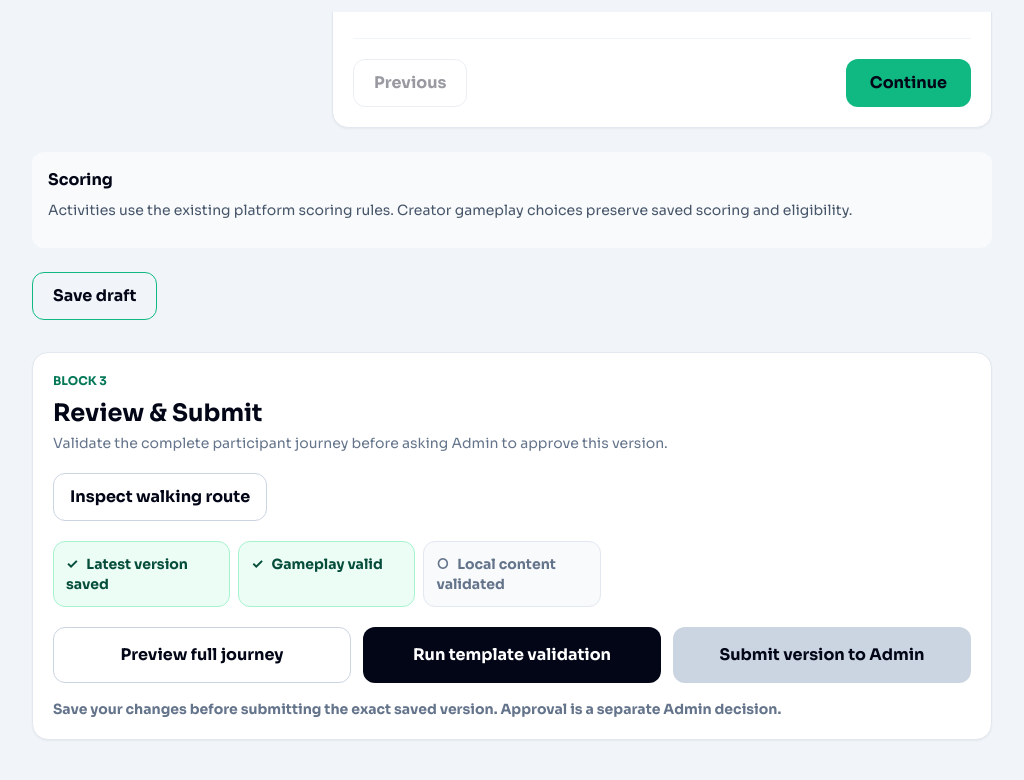
12 complete saved Local requires explicit validation, then exact submission without repeating completed sections
(page scrolled)
Expected: the button "Submit version to Admin" is disabled, [673,626,971,682]
Click the button "Run template validation" at (512, 654), box [363,626,661,682]
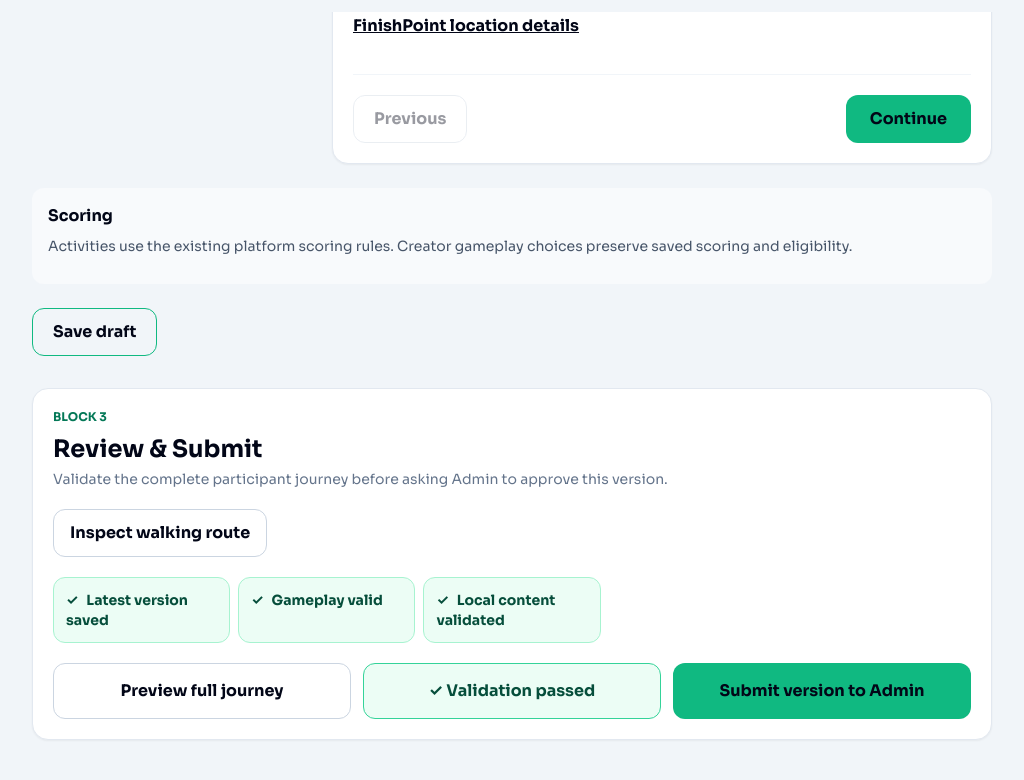
Expected: the button "Submit version to Admin" is enabled
Click the button "Submit version to Admin" at (822, 690), box [673,662,971,718]
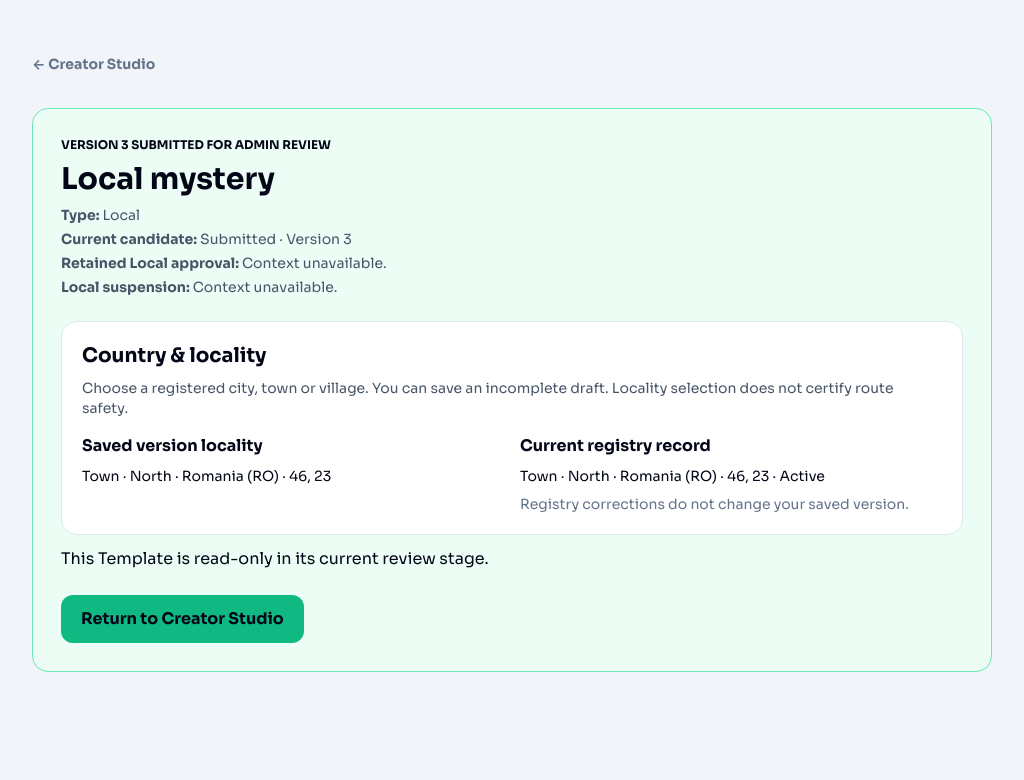
Expected: the text "submitted for Admin review" is shown, [61,137,331,152]
